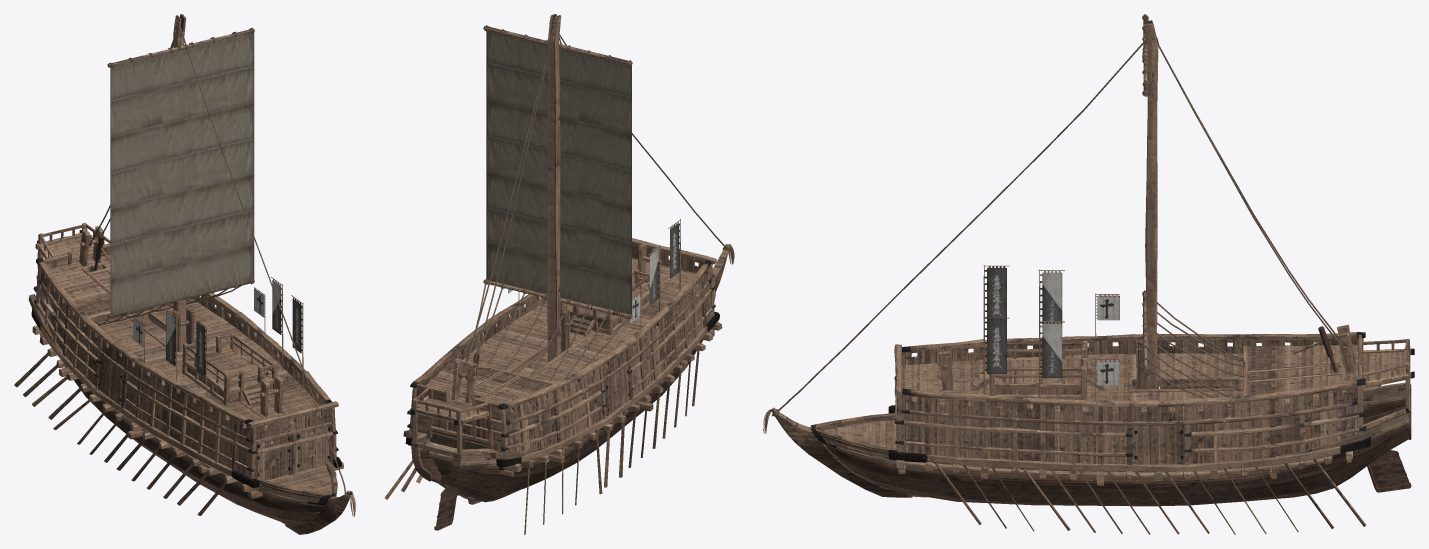
The model's file is seki.fbx.
3 renders of one model, left to right at view 1: azimuth 30°, elevation 25°; view 2: azimuth 150°, elevation 25°; view 3: azimuth 270°, elevation 25°, orthographic. The views are drawn at different scales.
Visible parts, largest first — view 1: sail3, polySurface1629, polySurface1988, pPlane1 (×4), polySurface1991, polySurface1992, polySurface1989, polySurface1195, polySurface1775, polySurface1770, pCylinder19, sail_rope_11 (+13 smaller); view 2: sail3, polySurface1629, polySurface1633, polySurface1988, polySurface1992, polySurface1991, polySurface1989, pPlane1 (×2), polySurface1770, polySurface1775, polySurface1003, sail_rope_9 (+14 smaller); view 3: polySurface1629, polySurface1646, polySurface1938, pPlane1 (×4), polySurface1633, polySurface820, polySurface1775, polySurface1991, polySurface1770, pCylinder19, polySurface1534, polySurface1644 (+24 smaller).
Part boxes in pixels (x1,y1,x2,y2): sail3: (110, 30, 254, 315); polySurface1629: (44, 254, 320, 428); polySurface1988: (65, 366, 323, 512); pPlane1 (×4): (166, 279, 302, 376); polySurface1991: (36, 257, 253, 424); polySurface1992: (31, 309, 259, 487); polySurface1989: (120, 429, 319, 521); polySurface1195: (190, 350, 269, 387); polySurface1775: (207, 293, 331, 403); polySurface1770: (39, 279, 250, 442); pCylinder19: (285, 491, 352, 534); sail_rope_11: (180, 29, 352, 497); sail3: (486, 27, 631, 314); polySurface1629: (426, 257, 695, 412); polySurface1633: (547, 14, 561, 362); polySurface1988: (460, 339, 703, 477); polySurface1992: (496, 311, 719, 467); polySurface1991: (498, 260, 710, 409); polySurface1989: (456, 410, 644, 492); pPlane1 (×2): (649, 222, 679, 304); polySurface1770: (506, 278, 711, 425); polySurface1775: (410, 242, 632, 387); polySurface1003: (430, 431, 488, 499); sail_rope_9: (458, 29, 553, 378); polySurface1629: (902, 344, 1357, 411); polySurface1646: (825, 412, 1408, 496); polySurface1938: (833, 429, 1409, 505); pPlane1 (×4): (984, 266, 1062, 377); polySurface1633: (1143, 20, 1158, 389); polySurface820: (888, 437, 1370, 471); polySurface1775: (902, 378, 1365, 406); polySurface1991: (902, 332, 1365, 352); polySurface1770: (901, 401, 1357, 425); pCylinder19: (772, 407, 912, 497); polySurface1534: (821, 441, 1353, 477); polySurface1644: (860, 438, 1408, 506).
Size of the model in its own units: 7.37 by 18.91 by 23.28.
